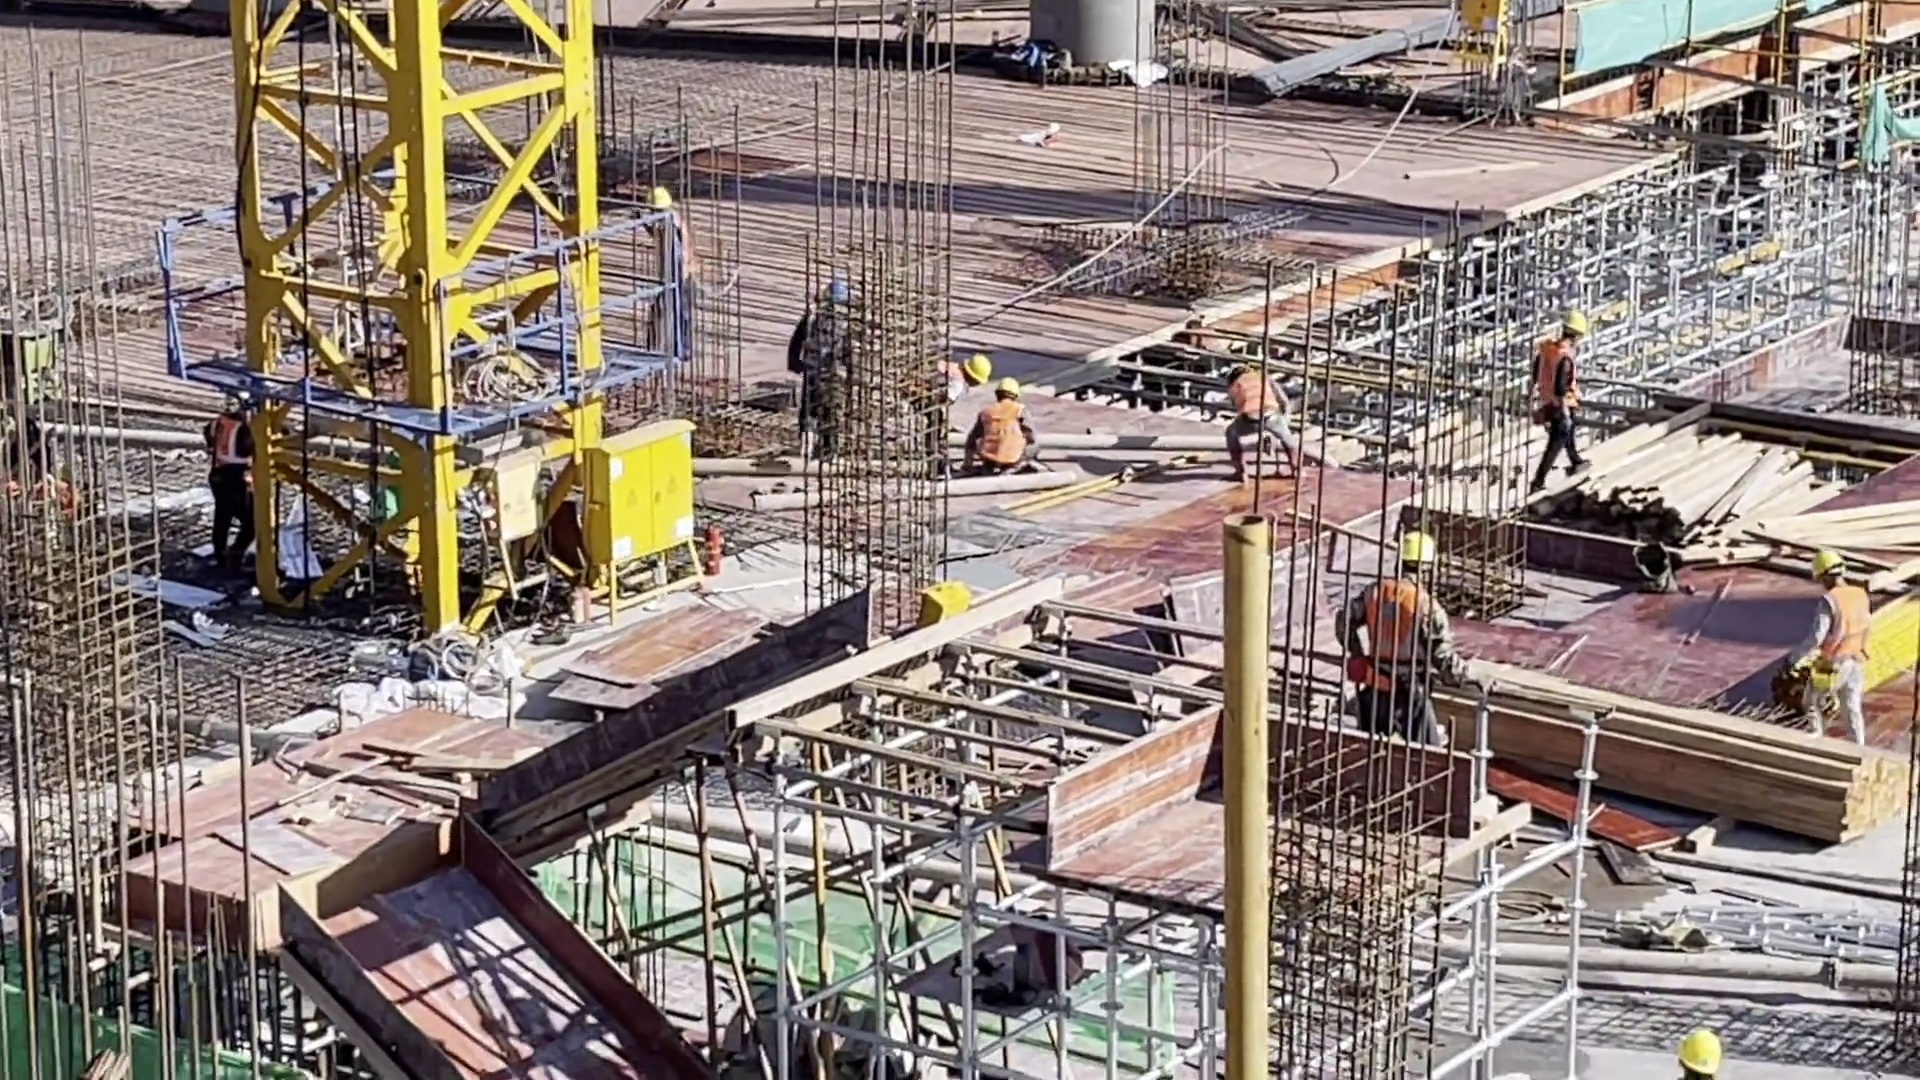ebox: (588, 426, 691, 581), (1455, 1, 1505, 50)
helmet: (1680, 1034, 1722, 1075), (1398, 533, 1436, 563), (1811, 551, 1846, 577), (964, 355, 991, 385), (646, 188, 672, 208), (1562, 312, 1587, 333), (996, 378, 1019, 395)
person: (1332, 533, 1465, 750), (1796, 546, 1871, 750), (197, 389, 259, 572), (900, 356, 989, 474), (638, 189, 697, 360), (1220, 364, 1301, 488), (1529, 315, 1583, 493), (969, 376, 1042, 480), (1674, 1032, 1722, 1080)
vest: (1361, 581, 1421, 679), (1821, 588, 1873, 672), (975, 403, 1029, 466), (1227, 368, 1283, 416), (1539, 345, 1578, 411), (208, 426, 254, 472), (669, 223, 694, 288)
wood: (1463, 670, 1889, 853), (1571, 427, 1815, 569)
